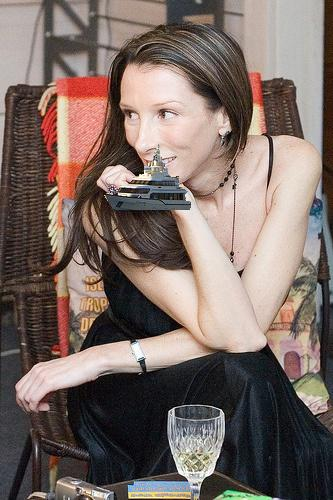tampered: (105, 145, 191, 210)
